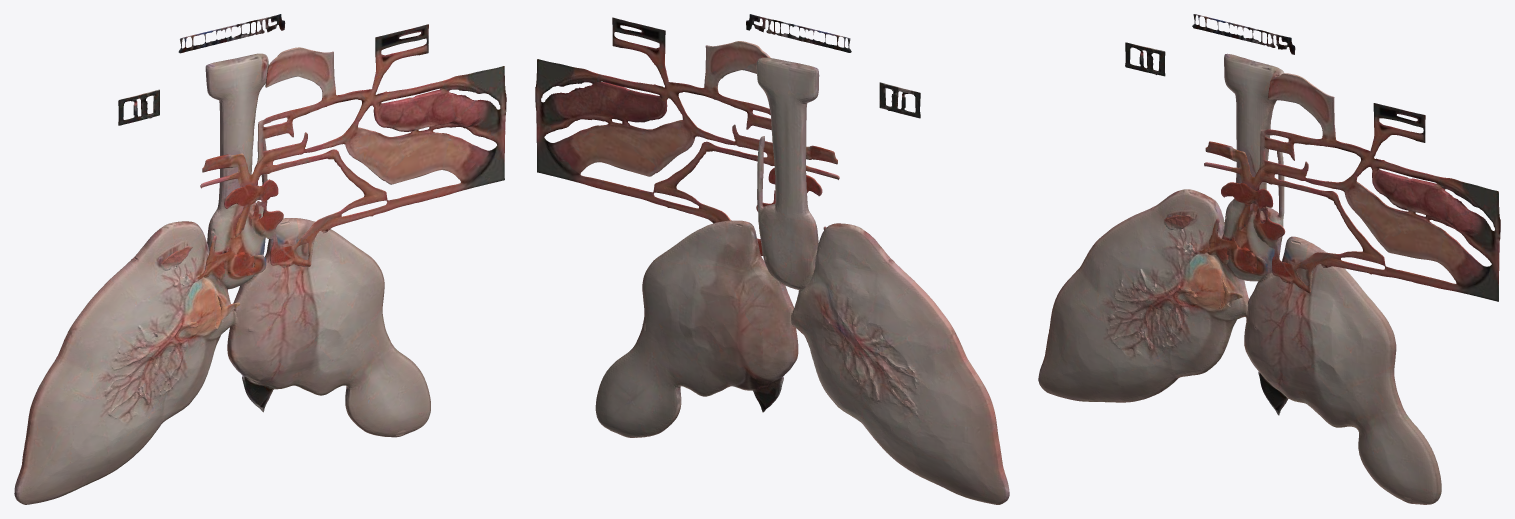
File: structure-pulmon.glb
3 renders of one model, left to right at view 1: azimuth 30°, elevation 25°; view 2: azimuth 150°, elevation 25°; view 3: azimuth 330°, elevation 25°, orthographic. The views are drawn at different scales.
Visible parts, largest first — view 1: Pulmon; view 2: Pulmon; view 3: Pulmon.
Part boxes in pixels (bbox=[...]): Pulmon: bbox=[14, 14, 506, 504]; Pulmon: bbox=[535, 14, 1009, 504]; Pulmon: bbox=[1038, 14, 1500, 504].
Size of the model in its own units: 1.98 by 1.78 by 0.1506.
1 material, 1 textured.
